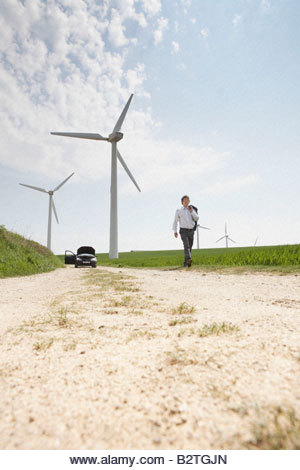working: (48, 90, 153, 163), (12, 169, 94, 227)
